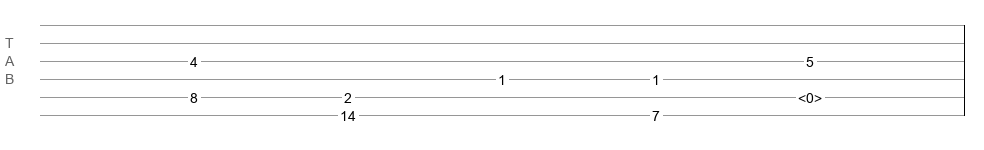1: (498, 72, 506, 82), (652, 72, 660, 82)
14: (340, 108, 356, 118)
2: (344, 90, 352, 100)
4: (190, 54, 198, 64)
5: (806, 54, 814, 64)
7: (652, 108, 660, 118)
8: (190, 90, 198, 100)
harmonic: (798, 90, 822, 100)
